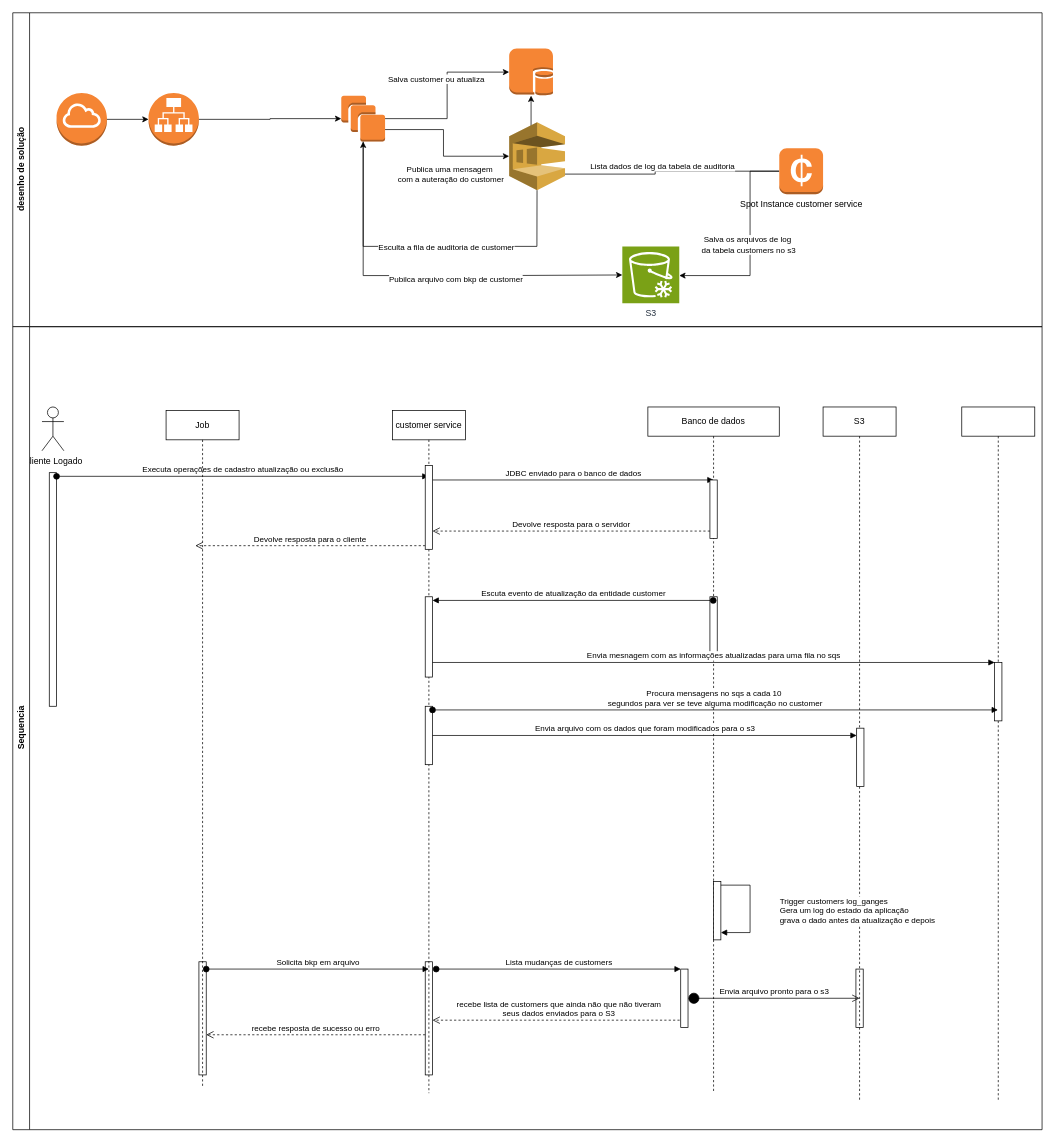
Some shapes in this 1055 by 1142 pixel diagram are drawn without their labels. Each missing label, with the centre of its shape:
Application Load Balance: pixel 173 119
DB: pixel 530 72
Instancias customer service: pixel 363 118
Internet Gatway: pixel 81 119
SQS: pixel 998 753
